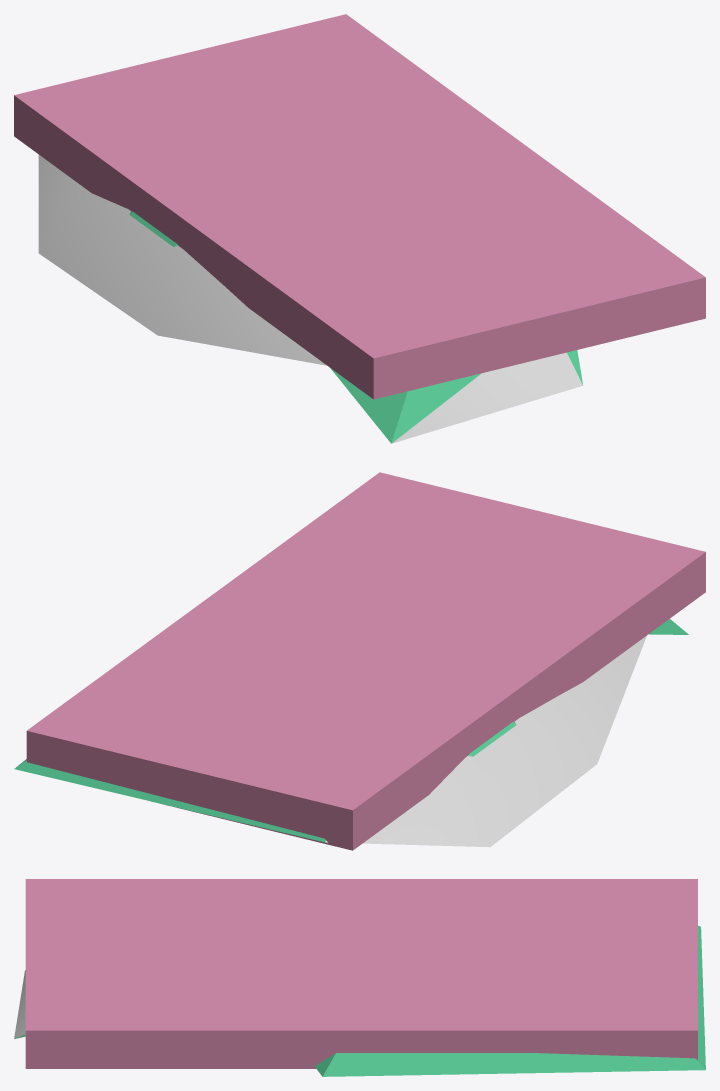
The model's file is parkinglot_01_c.dae.
3 views of the same model, one above another, from view 1: azimuth 30°, elevation 25°; view 2: azimuth 150°, elevation 25°; view 3: azimuth 270°, elevation 25° (orthographic). The views are drawn at different scales.
Visible parts, largest first — view 1: Untitled, ind_bld_a15, Colmesh-1; view 2: Untitled, ind_bld_a15, Colmesh-1; view 3: Untitled, Colmesh-1, ind_bld_a15.
Part boxes in pixels (left/top/right/bottom): Untitled: left=14, top=14, right=705, bottom=399; ind_bld_a15: left=38, top=155, right=582, bottom=443; Colmesh-1: left=129, top=211, right=583, bottom=443; Untitled: left=26, top=472, right=705, bottom=850; ind_bld_a15: left=325, top=635, right=646, bottom=847; Colmesh-1: left=14, top=619, right=688, bottom=842; Untitled: left=25, top=879, right=697, bottom=1068; Colmesh-1: left=15, top=925, right=705, bottom=1076; ind_bld_a15: left=14, top=970, right=25, bottom=1038.
Size of the model in its own units: 37.77 by 58.58 by 7.79.
